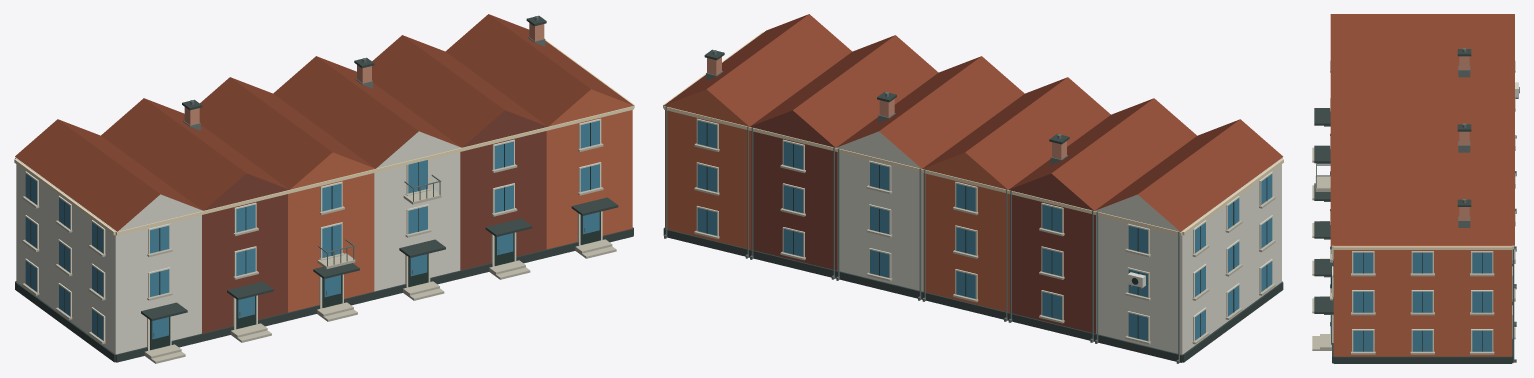
Rendered from TownhouseRow6.obj.
The picture shows the model from 3 angles, left to right: view 1: azimuth 30°, elevation 25°; view 2: azimuth 150°, elevation 25°; view 3: azimuth 270°, elevation 25°; orthographic projection. The views are drawn at different scales.
Parts seen in each view (by area): view 1: TownhouseRow6; view 2: TownhouseRow6; view 3: TownhouseRow6.
Part boxes in pixels (box(x1,y1,x2,y2)): TownhouseRow6: box(14, 14, 634, 363); TownhouseRow6: box(663, 14, 1283, 363); TownhouseRow6: box(1312, 14, 1519, 363).
Size of the model in its own units: 36.5 by 11.41 by 13.95.
1 material, 1 textured.
